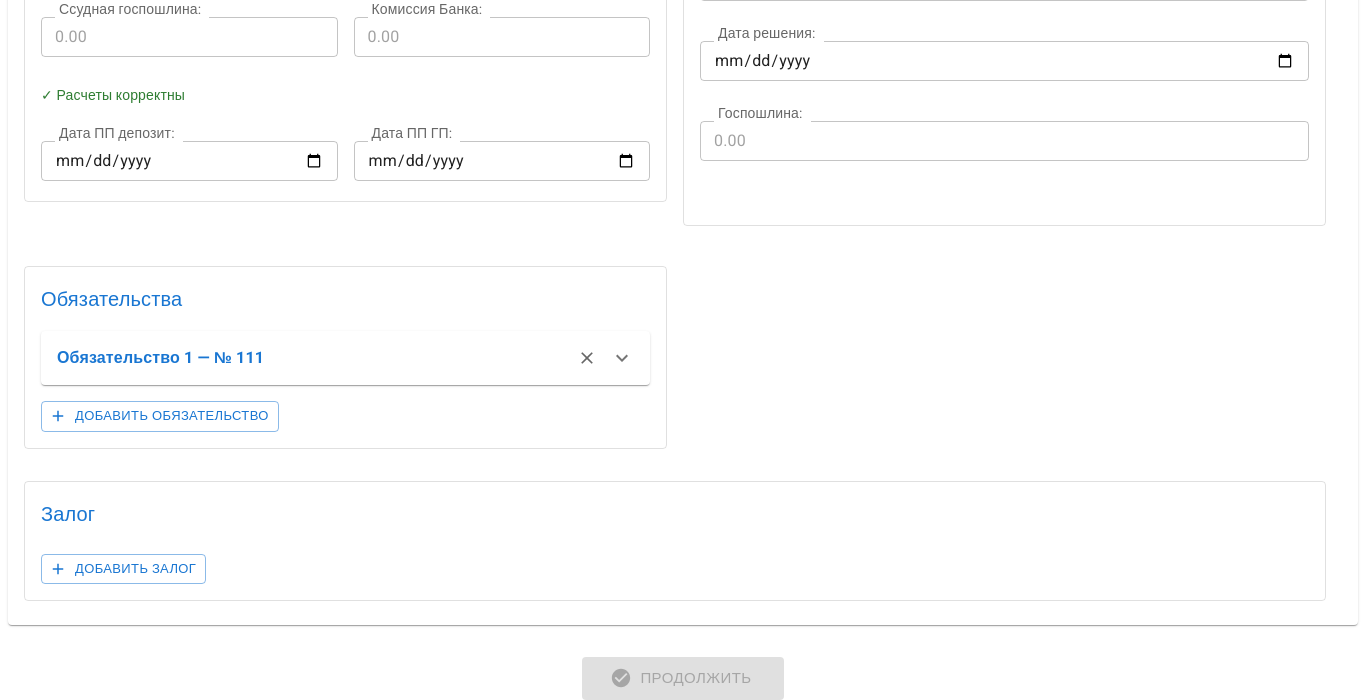
it: DocumentAnalysis — CRUD обязательств › кнопка удаления убирает обязательство
(page scrolled)
Click the button "Добавить обязательство" at (160, 416), box x1=41 y1=401 x2=279 y2=432
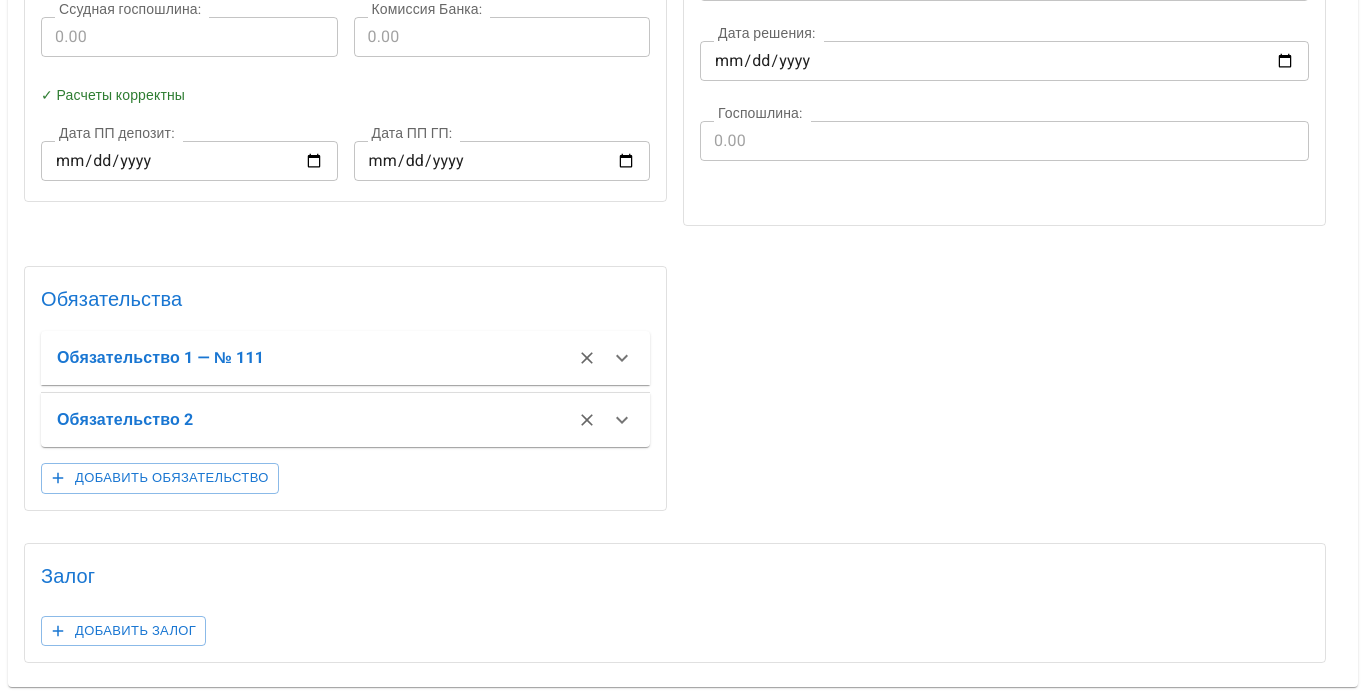
Now the heading "Обязательство 2" is shown, box x1=57 y1=406 x2=193 y2=434
Click the 1st button named "Удалить обязательство" at (587, 358), box x1=572 y1=343 x2=602 y2=373
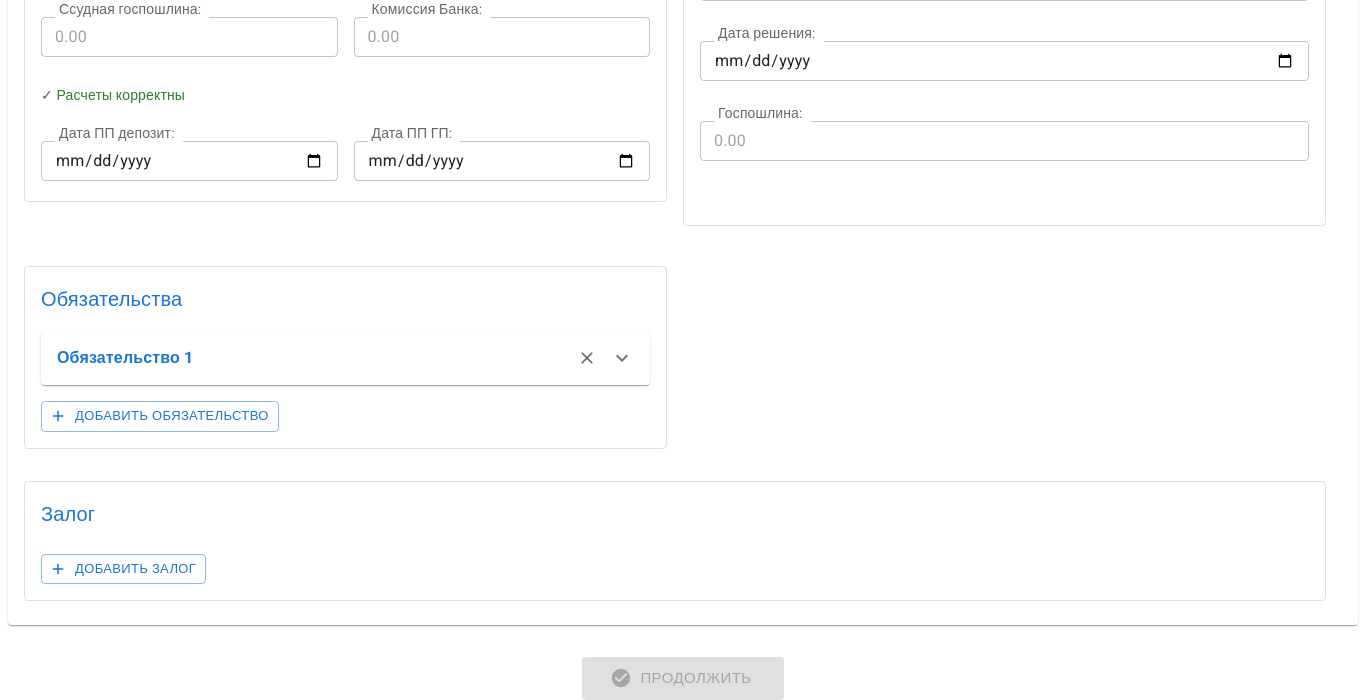
Expected: the heading "Обязательство 1" is shown, x1=57 y1=344 x2=193 y2=372
Now the button "Обязательство 2" is gone
